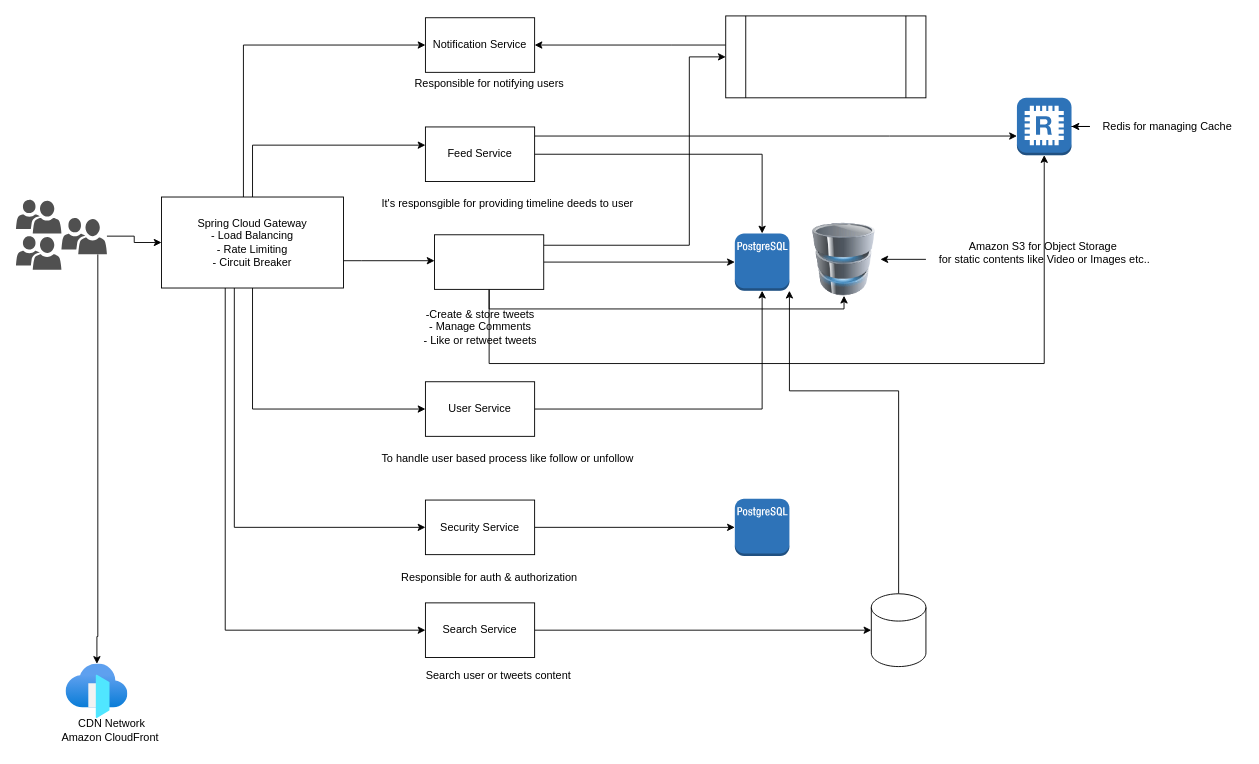
Image size: 1259x764. Some labels were removed from this diagram. Each missing label, with the centre of its shape:
ELASTIC: the point at 898,630
KAFKA CLUSTER: the point at 825,56
Tweet Service: the point at 489,261
